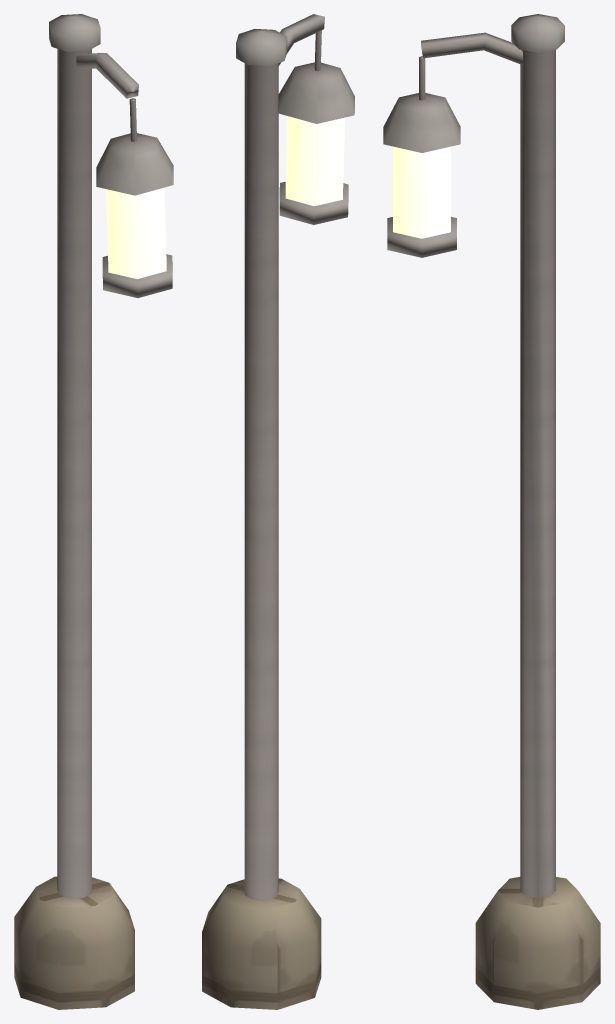
File: lamp.glb
3 renders of one model, left to right at view 1: azimuth 30°, elevation 25°; view 2: azimuth 150°, elevation 25°; view 3: azimuth 270°, elevation 25°, orthographic.
Parts seen in each view (by area): view 1: prop.lamp.mesh, lantern; view 2: prop.lamp.mesh, lantern; view 3: prop.lamp.mesh, lantern.
Boxes of the visible parts, bbox=[...] form: prop.lamp.mesh: bbox=[14, 14, 138, 1009]; lantern: bbox=[96, 98, 173, 297]; prop.lamp.mesh: bbox=[202, 14, 324, 1009]; lantern: bbox=[278, 30, 354, 224]; prop.lamp.mesh: bbox=[421, 14, 600, 1009]; lantern: bbox=[383, 56, 460, 257].
Size of the model in its own units: 0.28 by 2.39 by 0.4866.
Materials: 3 (2 with a texture image).
